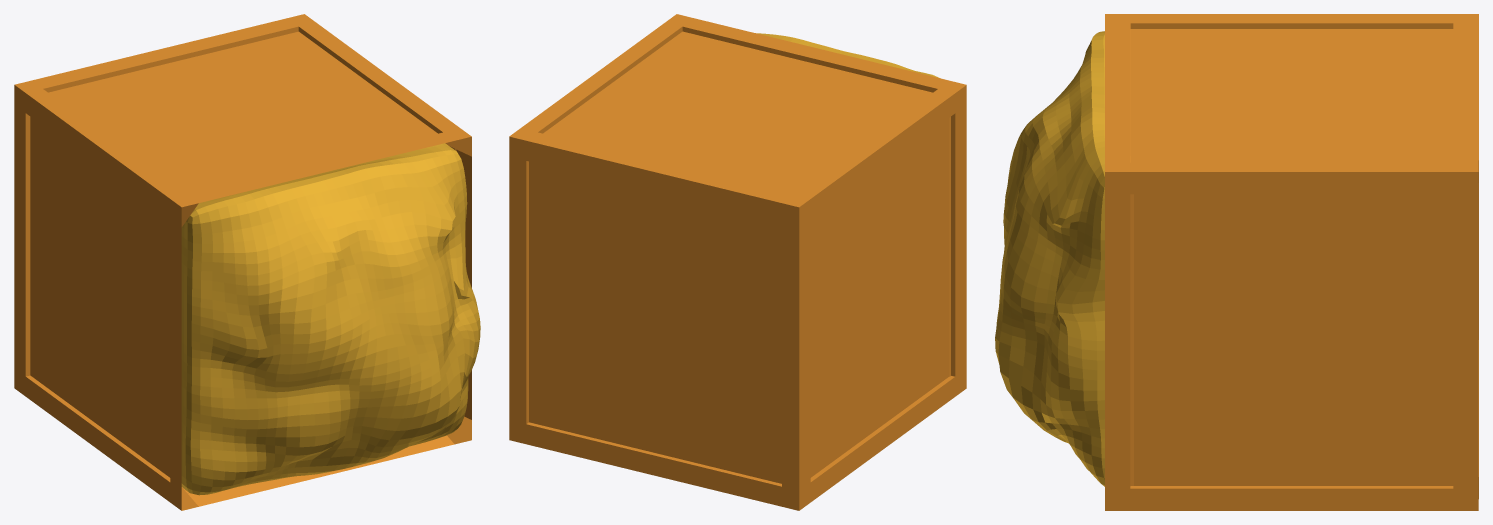
Rendered from eisen_staub.gltf.
3 views of the same model, side by side, from view 1: azimuth 30°, elevation 25°; view 2: azimuth 150°, elevation 25°; view 3: azimuth 270°, elevation 25° (orthographic). The views are drawn at different scales.
Visible parts, largest first — view 1: Crate, Cube; view 2: Crate, Cube; view 3: Crate, Cube.
Boxes of the visible parts, x1,y1,x2,y2 form: Crate: (14, 14, 471, 510); Cube: (181, 143, 480, 495); Crate: (509, 14, 966, 510); Cube: (755, 33, 938, 77); Crate: (1105, 14, 1478, 510); Cube: (995, 31, 1104, 486).
Size of the model in its own units: 0.3001 by 0.3 by 0.3883.
